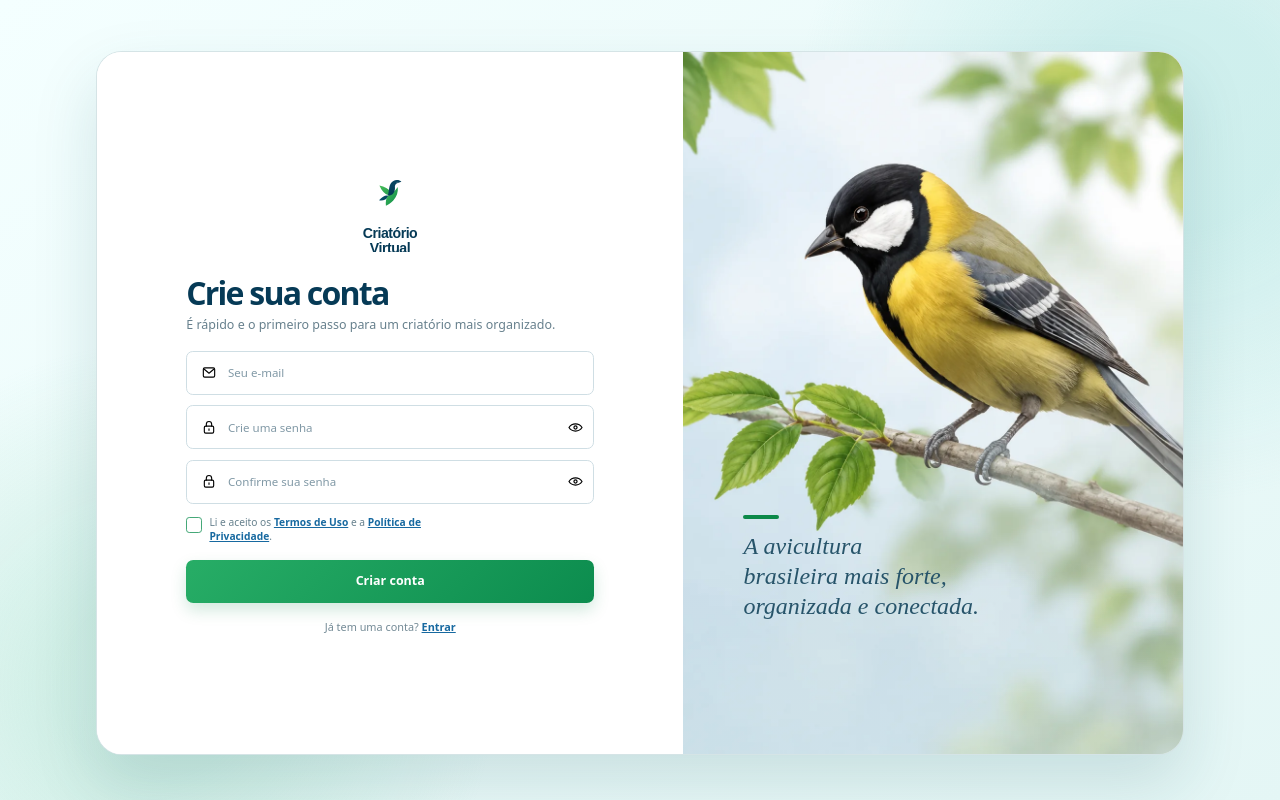
Scenario: RegistrationPage › rejects a confirmation password that does not match
Type "owner@example.com" into the field labelled "e-mail" at (390, 373), box [186,351,594,395]
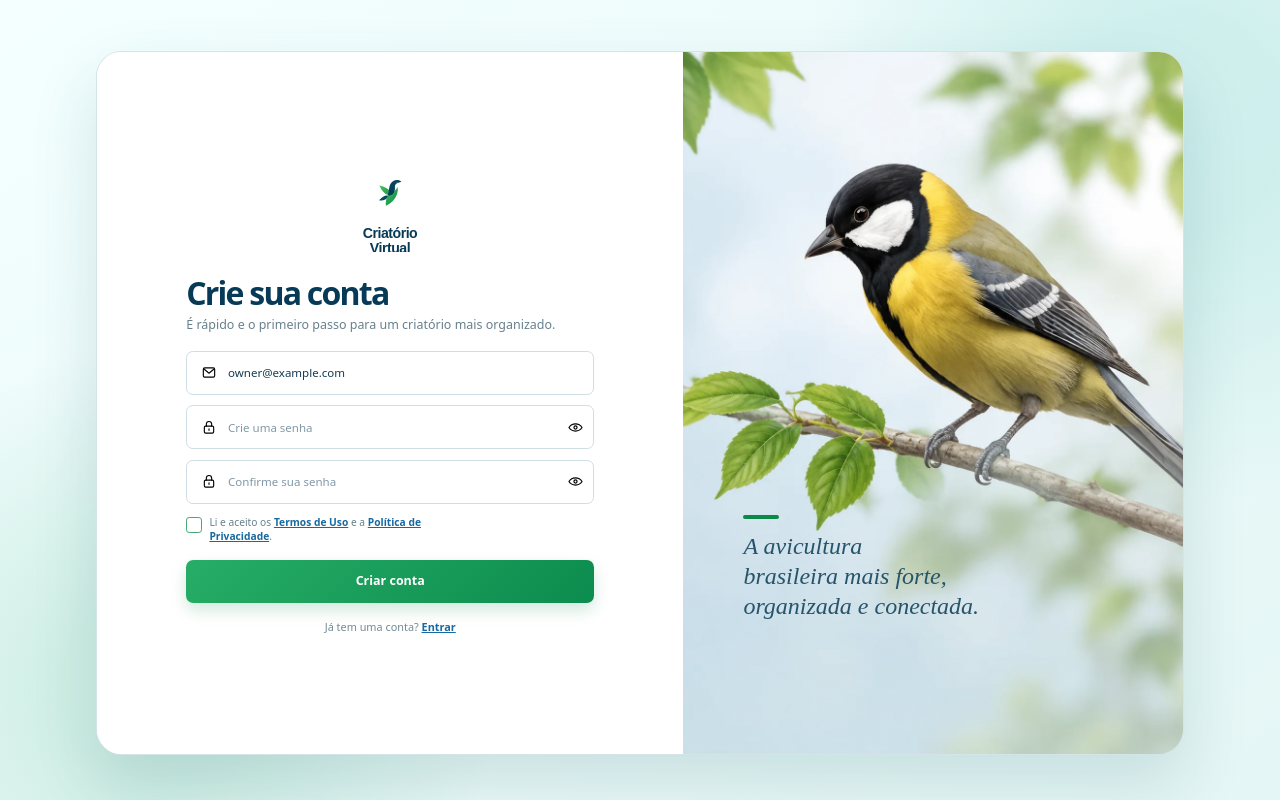
Type "StrongPassword!123" into the password field labelled "senha" at (390, 427), box [186,405,594,449]
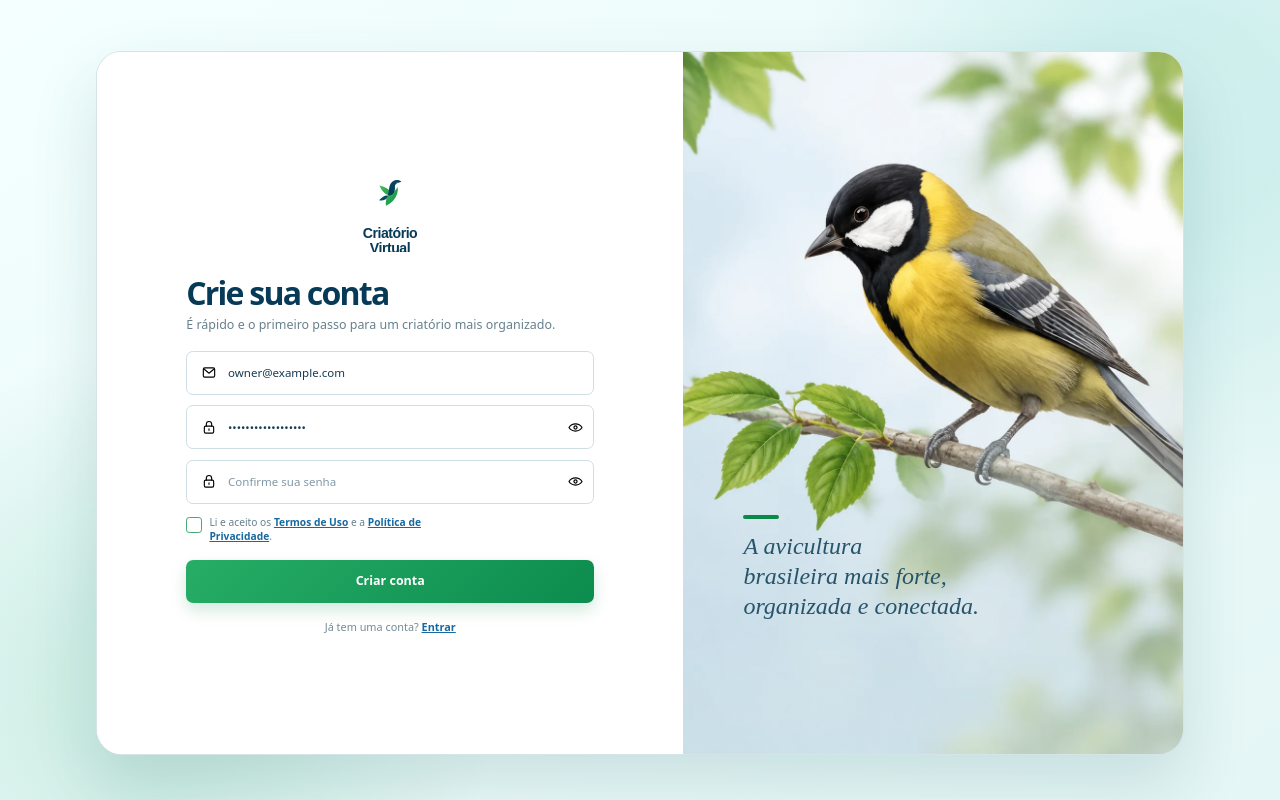
Type "DifferentPassword!123" into the password field named "Confirmar senha" at (390, 482), box [186,460,594,504]
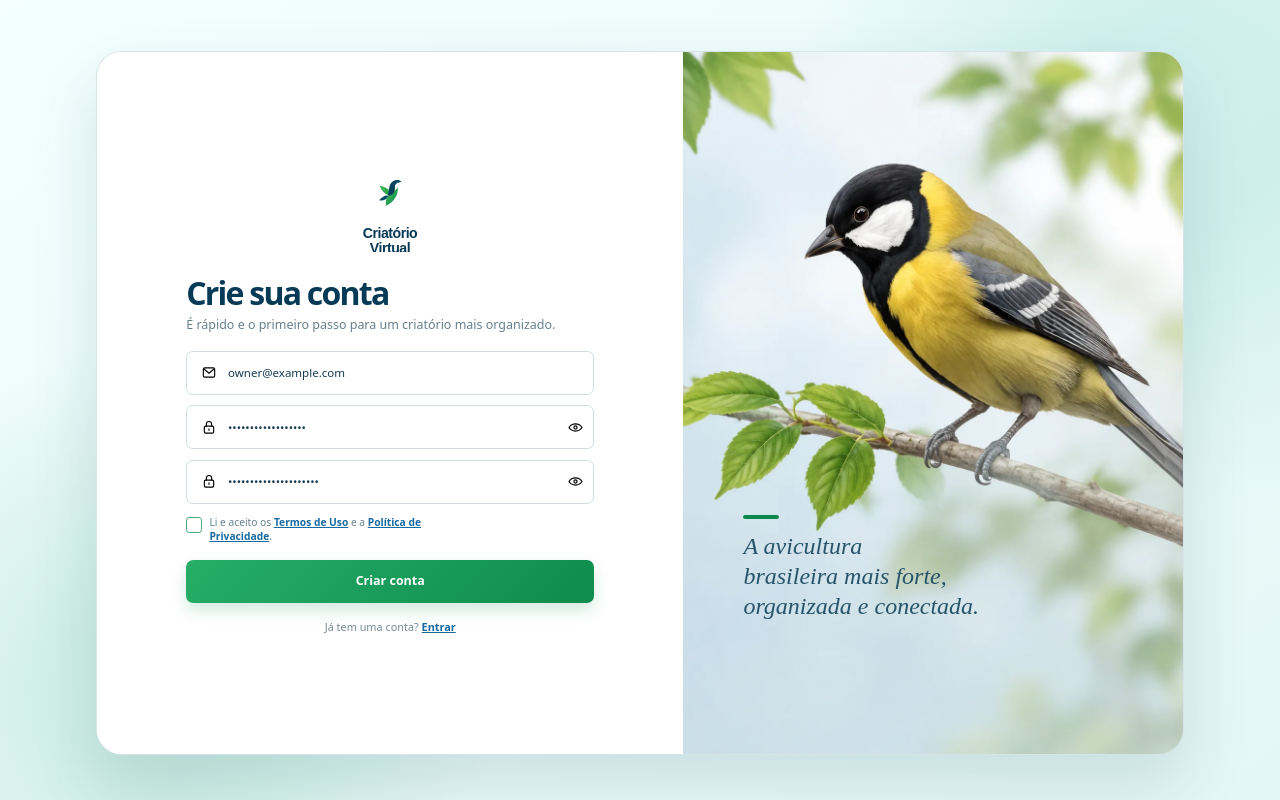
Click the checkbox at (194, 525), box [186,517,202,533]
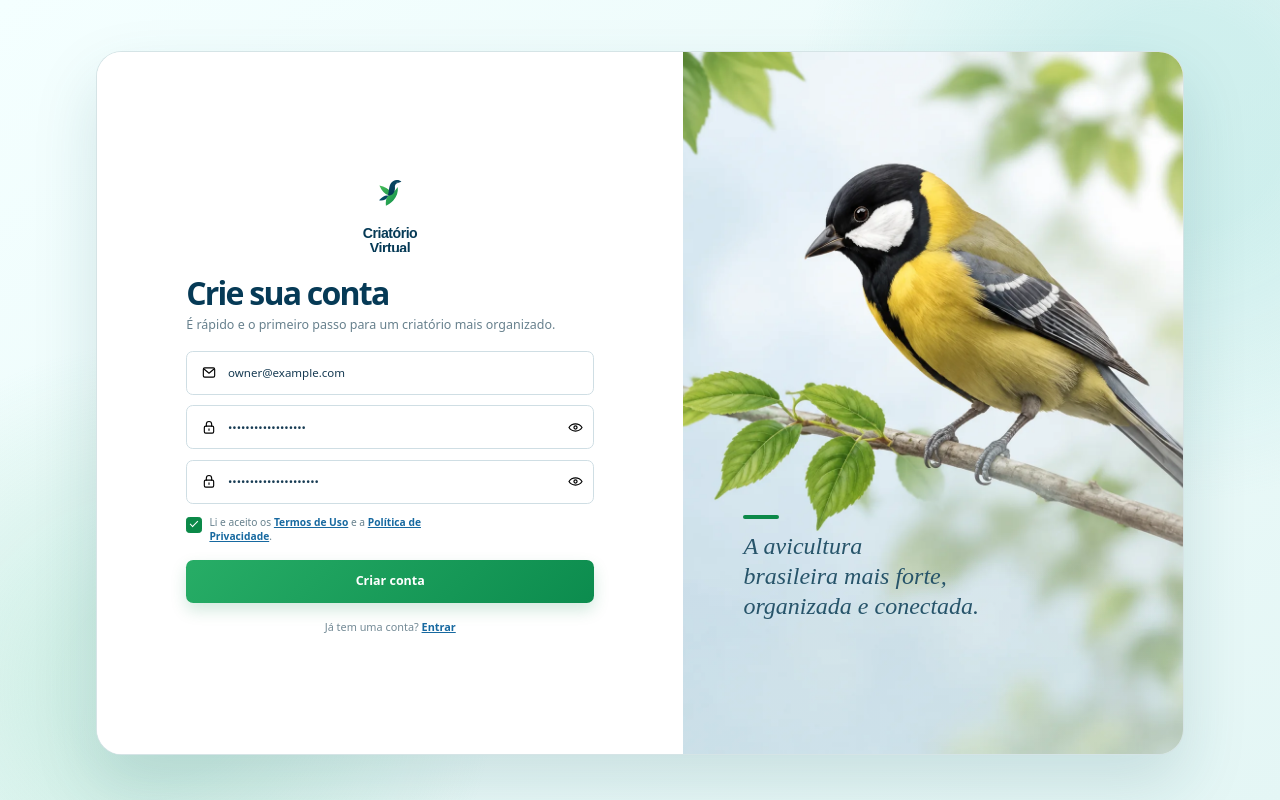
Click the button "Criar conta" at (390, 582), box [186,560,594,603]
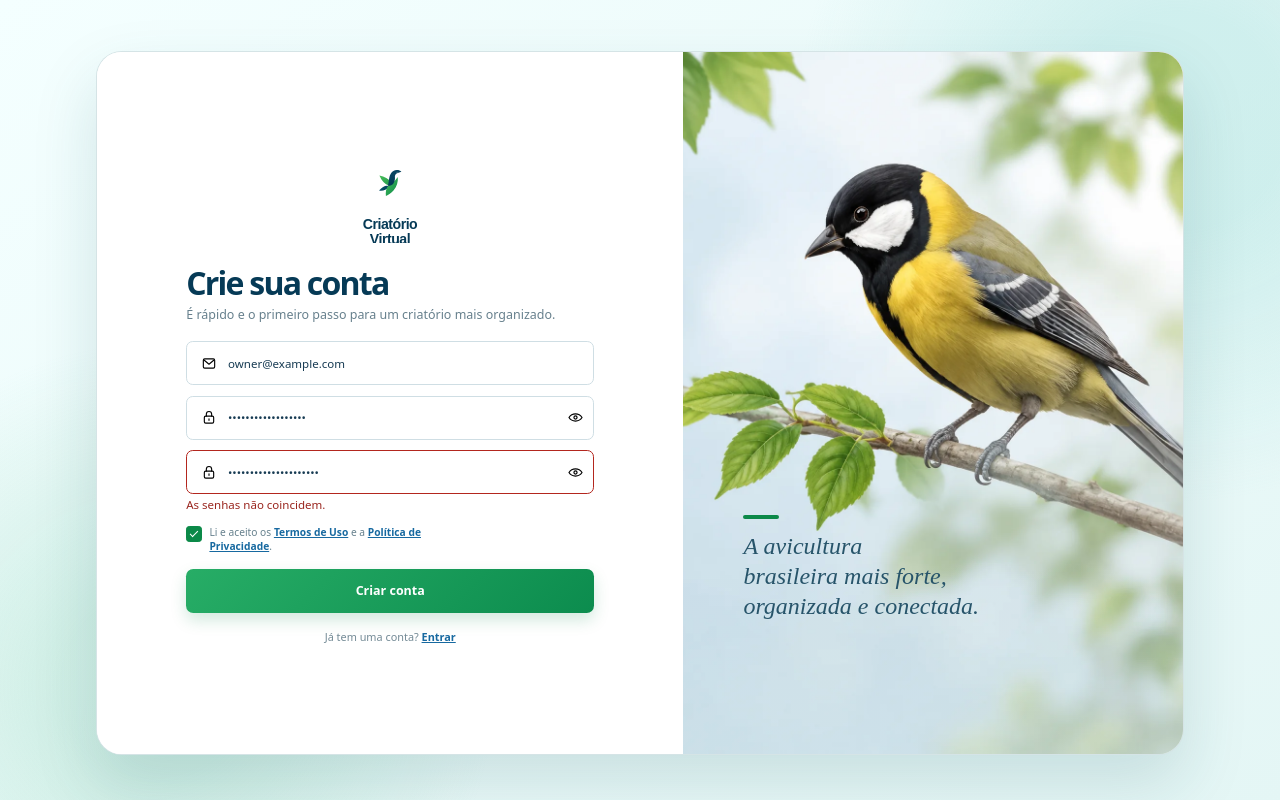
Check: the text "As senhas não coincidem." is shown, box [186,497,325,512]
